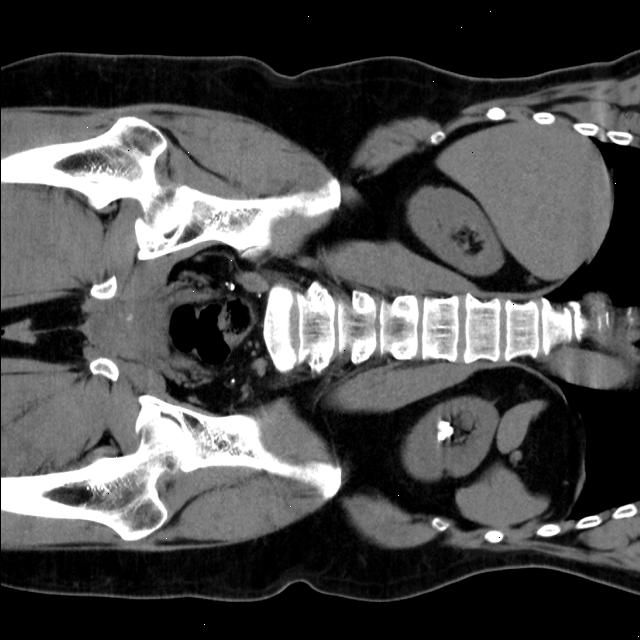kidneystone: (437, 421, 452, 442)
